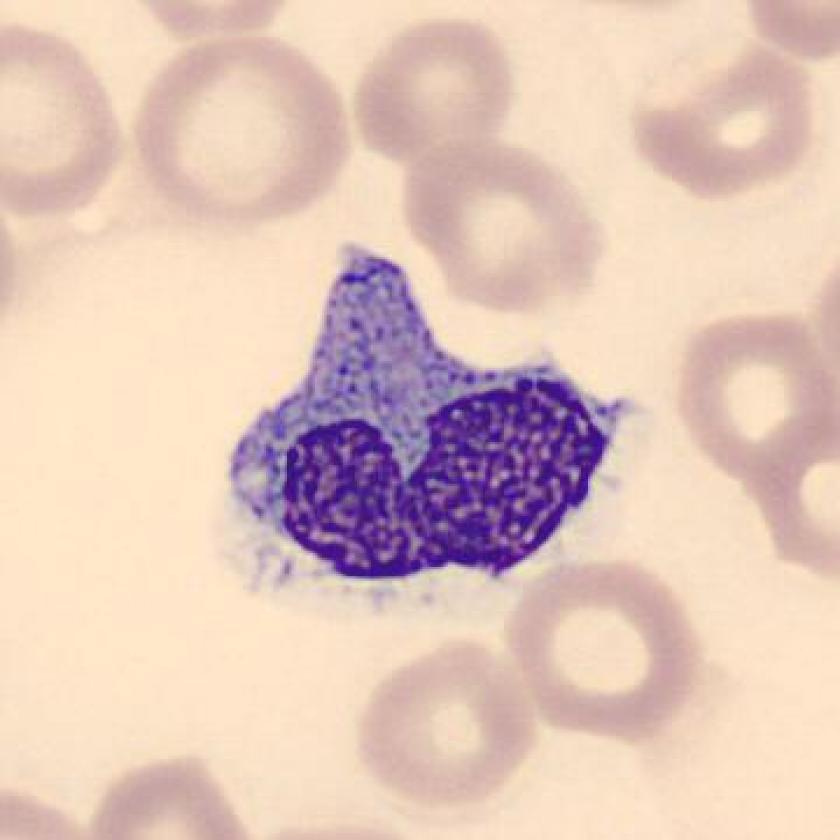monocyte: (209, 223, 671, 640)
